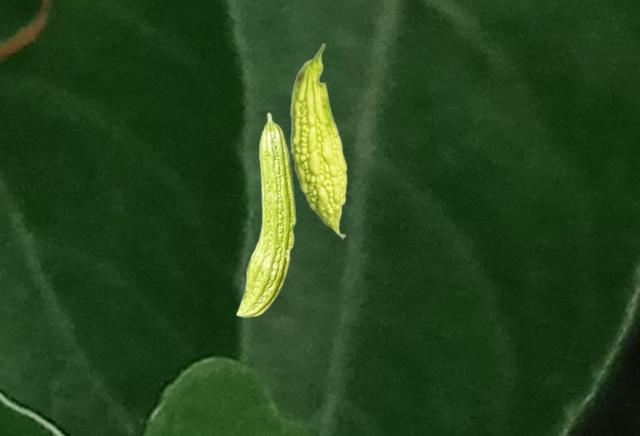ampalaya: (234, 111, 296, 319), (288, 42, 348, 240)
